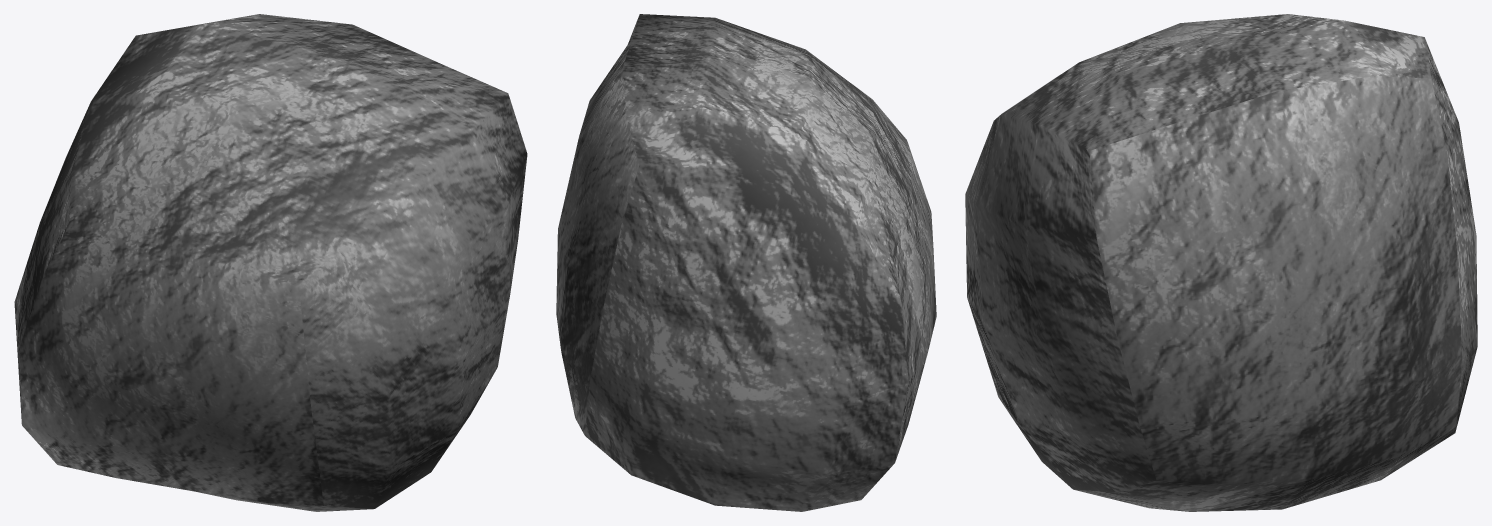
Rendered from RockSmallSingle01.fbx.
3 views of the same model, side by side, from view 1: azimuth 30°, elevation 25°; view 2: azimuth 150°, elevation 25°; view 3: azimuth 270°, elevation 25° (orthographic). The views are drawn at different scales.
Parts seen in each view (by area): view 1: RockSmallSingle; view 2: RockSmallSingle; view 3: RockSmallSingle.
Boxes of the visible parts, <box> form: RockSmallSingle: <box>14,14,527,511</box>; RockSmallSingle: <box>556,14,936,511</box>; RockSmallSingle: <box>965,14,1477,511</box>.
Bounding box in the file's own units: 74.53 × 73.7 × 73.78.
